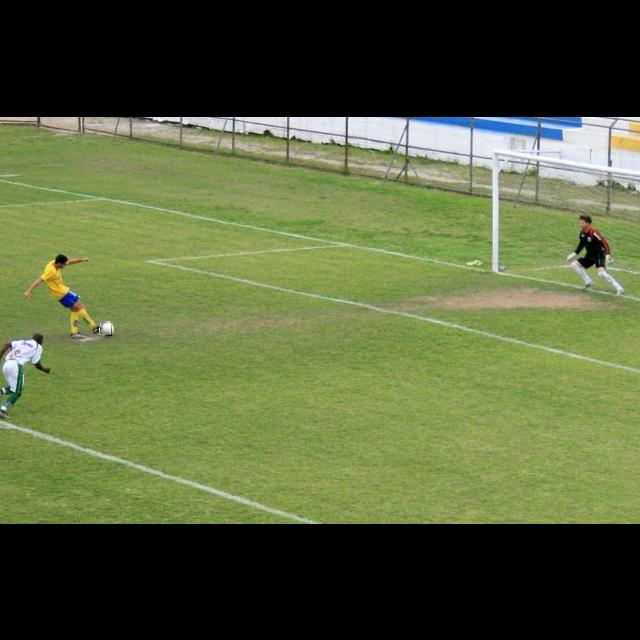Football: (100, 322, 112, 336)
